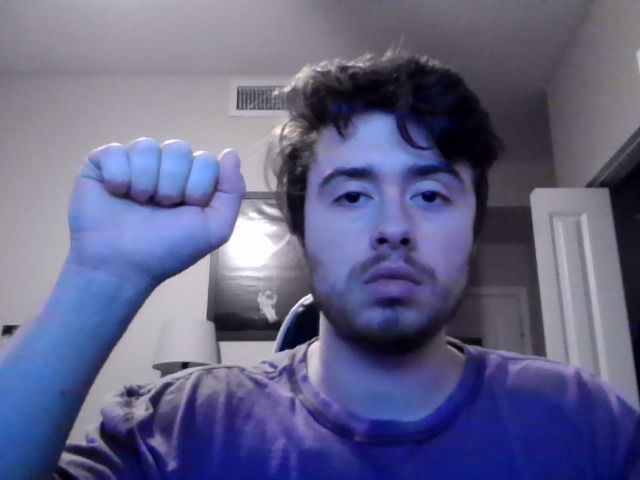a: (67, 136, 248, 287)
